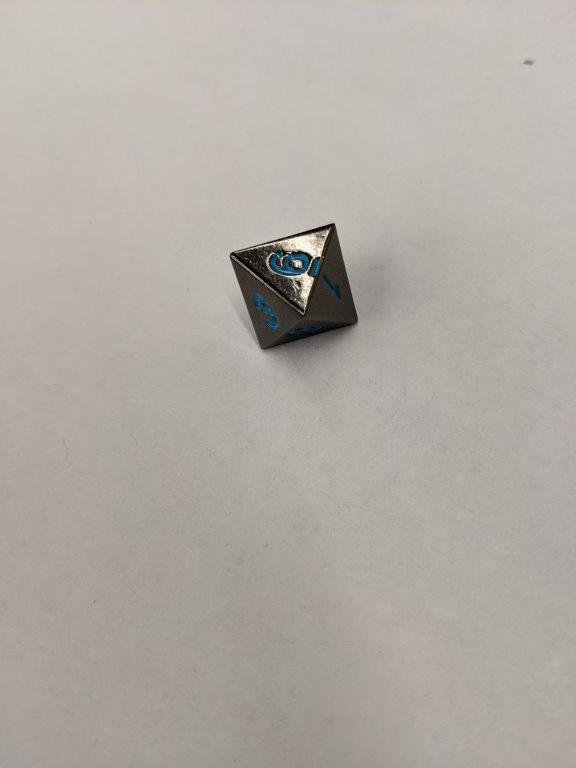d8-6: (226, 224, 357, 352)
